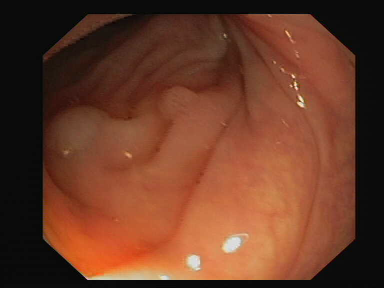polyp: (41, 94, 125, 211), (152, 70, 239, 142)
